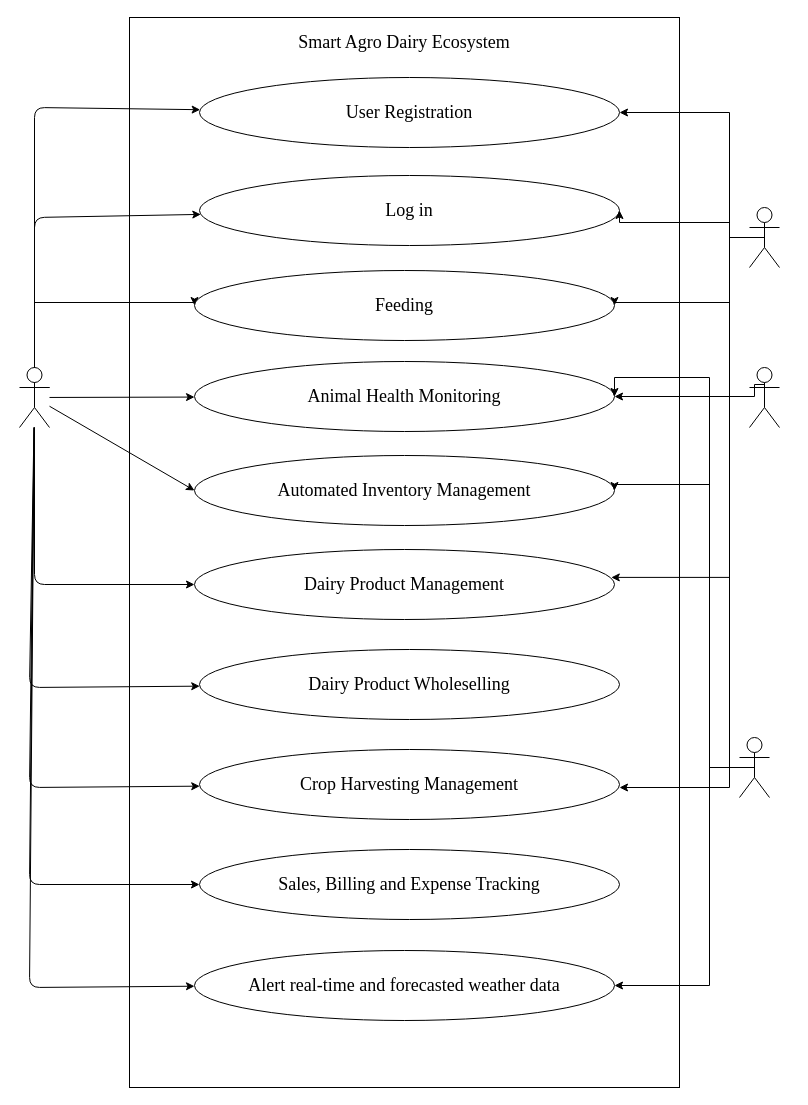
Some shapes in this 808 by 1105 pixel diagram are drawn without their labels. The centre of each missing label's shape, as x and y in pixels:
"Admin" belongs at [34,397].
"Automated Camera" belongs at [754,767].
"Staff" belongs at [764,237].
"Veterinary" belongs at [764,397].
